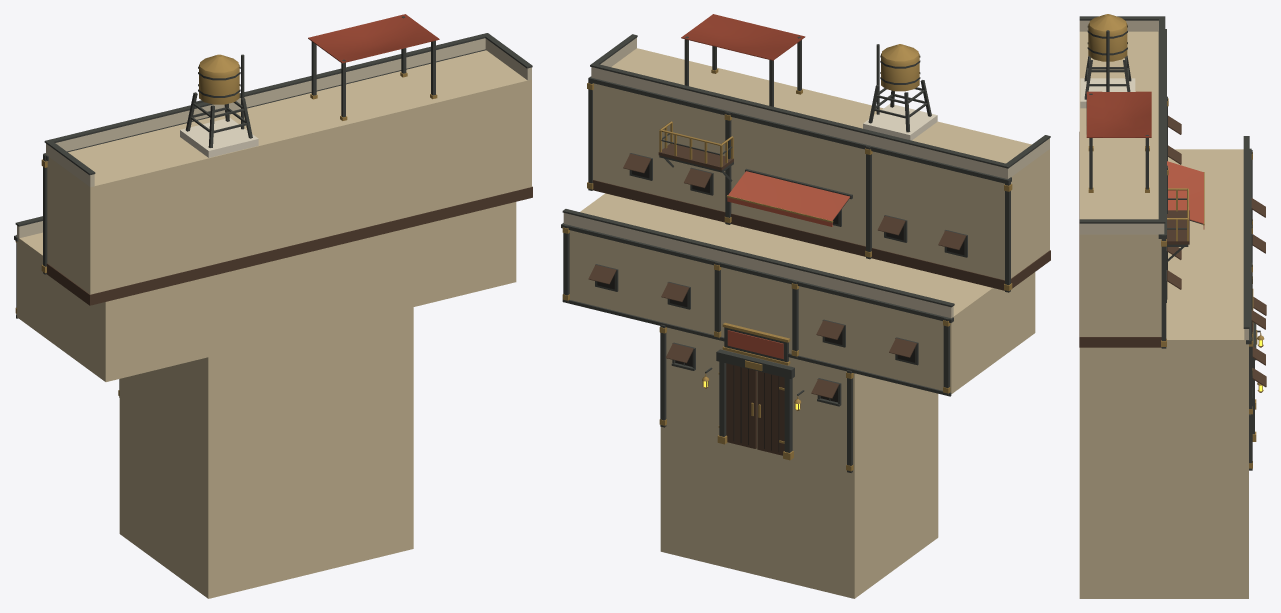
Rendered from stair_gate.glb.
3 renders of one model, left to right at view 1: azimuth 30°, elevation 25°; view 2: azimuth 150°, elevation 25°; view 3: azimuth 270°, elevation 25°, orthographic. The views are drawn at different scales.
Visible parts, largest first — view 1: stair_gate; view 2: stair_gate; view 3: stair_gate.
Part boxes in pixels (left/top/right/bottom): stair_gate: left=14, top=14, right=532, bottom=598; stair_gate: left=561, top=14, right=1050, bottom=598; stair_gate: left=1079, top=14, right=1266, bottom=598.
Bounding box in the file's own units: 17.42 × 19.58 × 6.64.
